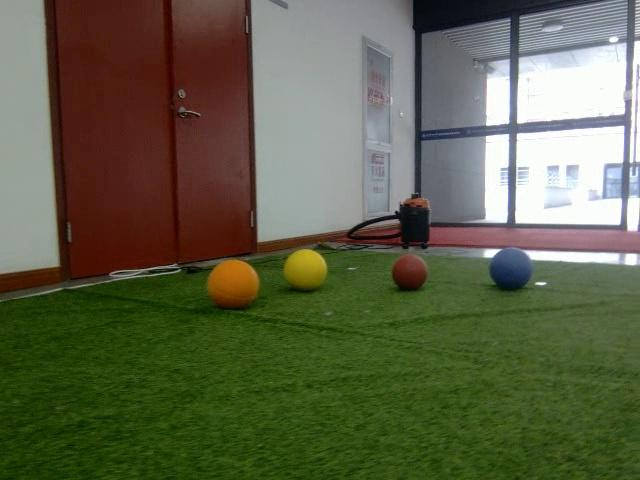blue_ball: (489, 246, 531, 292)
orange_ball: (206, 258, 260, 312)
red_ball: (392, 255, 428, 290)
yellow_ball: (284, 248, 327, 290)
